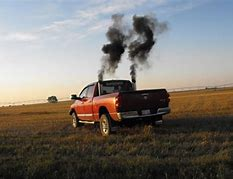smoke: (128, 12, 161, 81), (98, 14, 126, 80)
